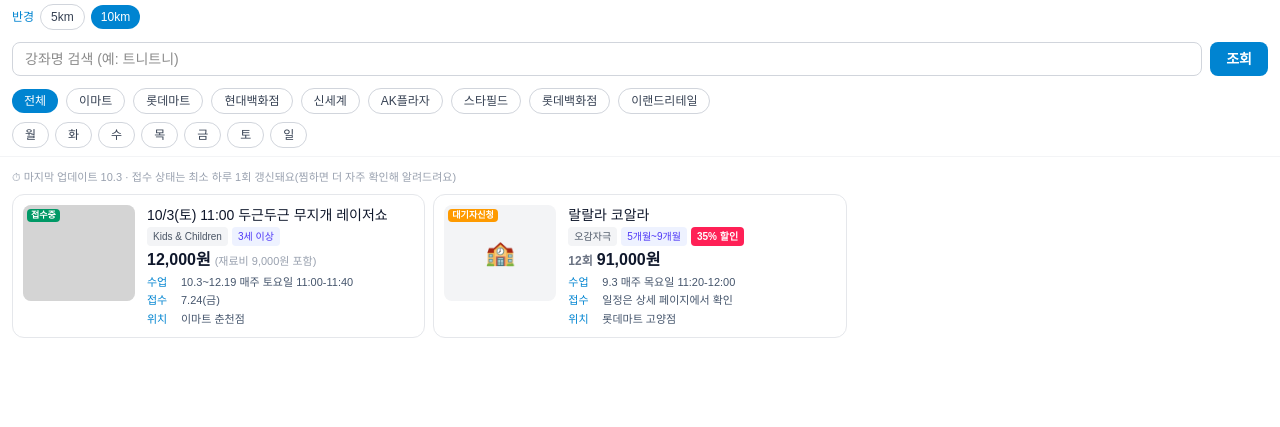
CultureClubTabView — 브랜드 필터 › 롯데마트를 선택하면 지점 뱃지와 수강대상 칩이 나타난다
Expected: the text "10/3(토) 11:00 두근두근 무지개 레이저쇼" is shown, [147,204,410,224]
Click the button "롯데마트": [168, 101] box [133,88,203,114]
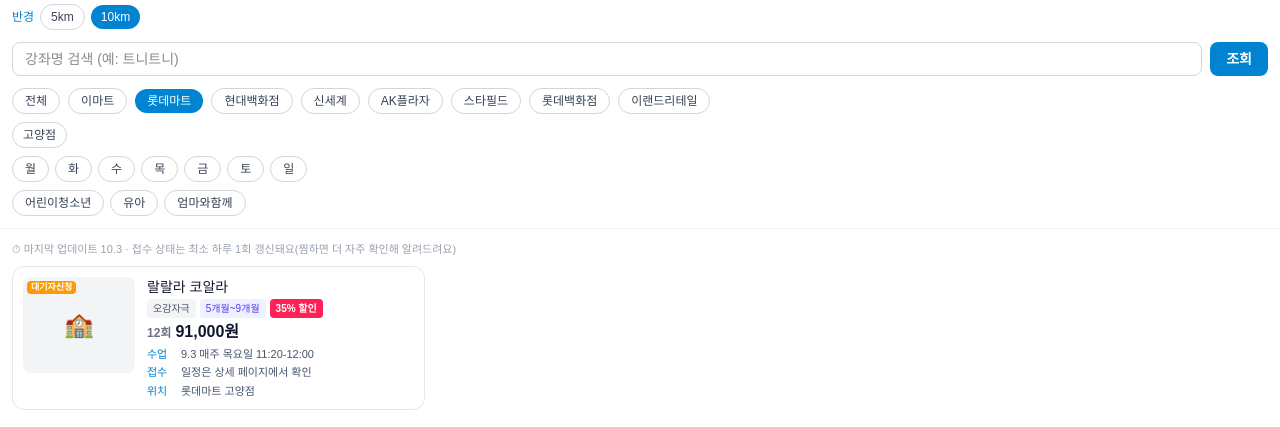
Expected: the button "고양점" is shown, [12,122,67,148]
Expected: the button "엄마와함께" is shown, [164,190,246,216]
